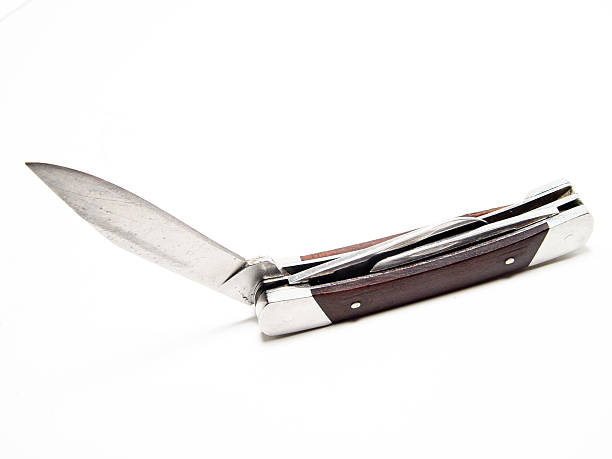knife: (21, 160, 268, 307)
